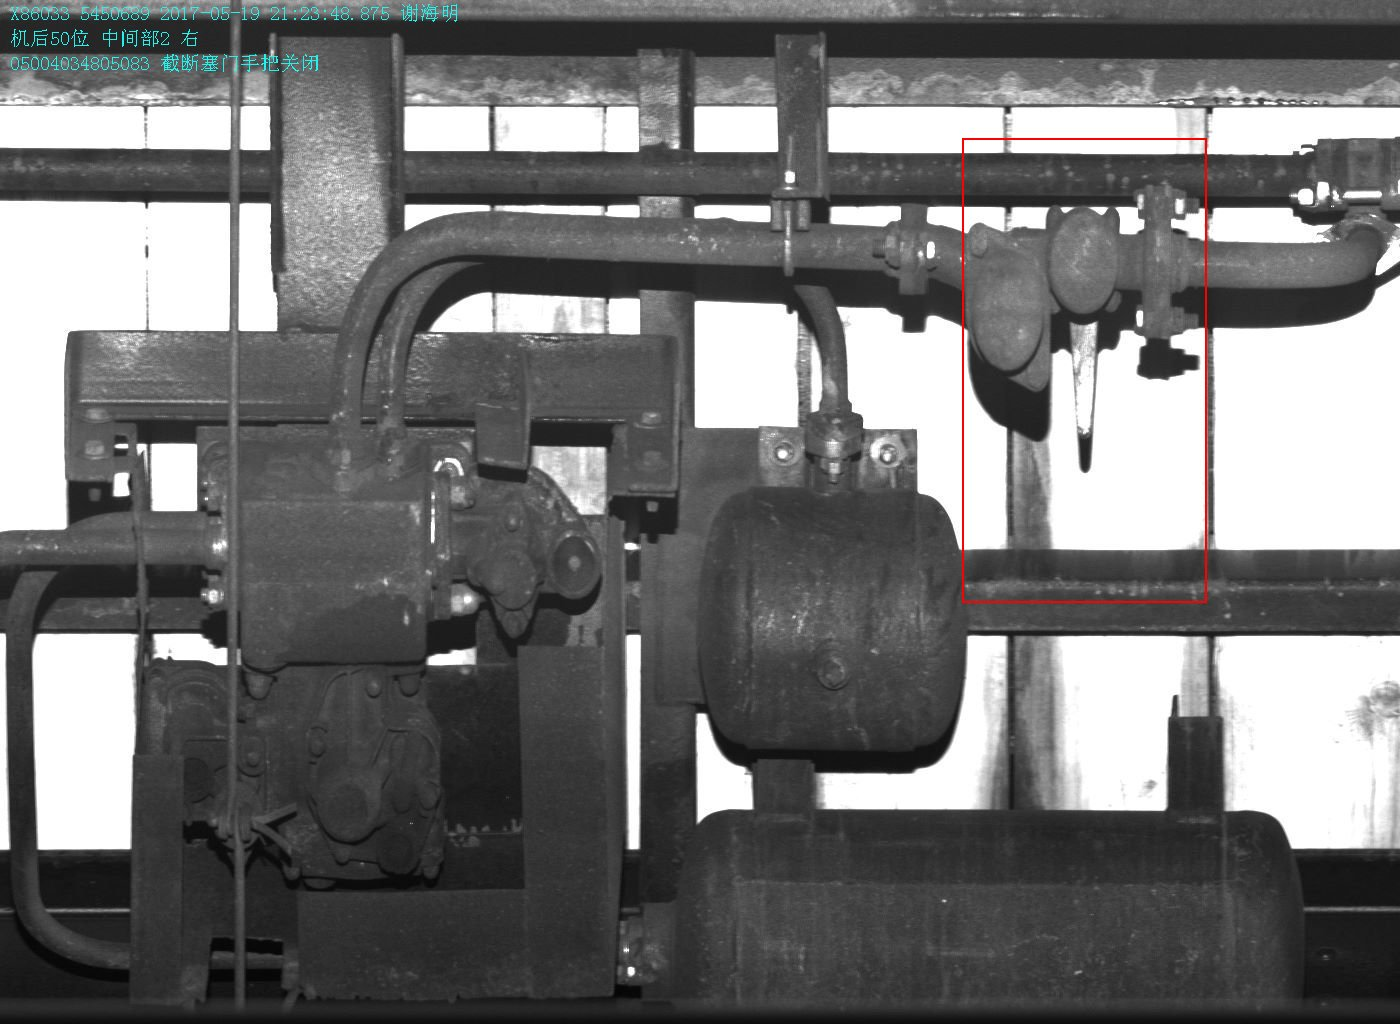truncated plug door handle: (1043, 202, 1124, 473)
